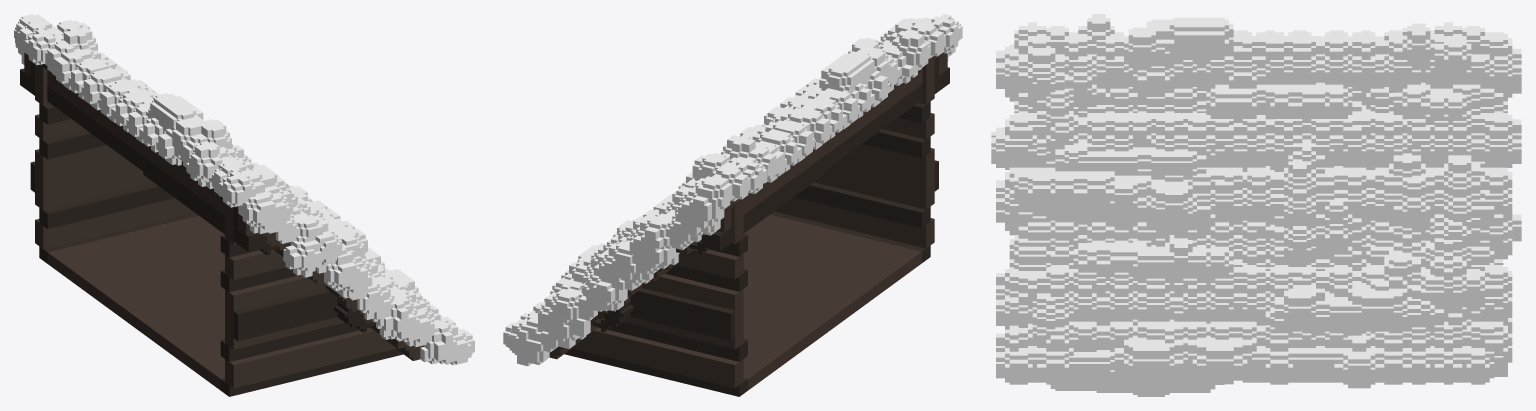
File: RoofFullFilledSnowed.obj
3 renders of one model, left to right at view 1: azimuth 30°, elevation 25°; view 2: azimuth 150°, elevation 25°; view 3: azimuth 270°, elevation 25°, orthographic. The views are drawn at different scales.
Size of the model in its own units: 6.5 by 6.5 by 11.6.
1 material, 1 textured.
